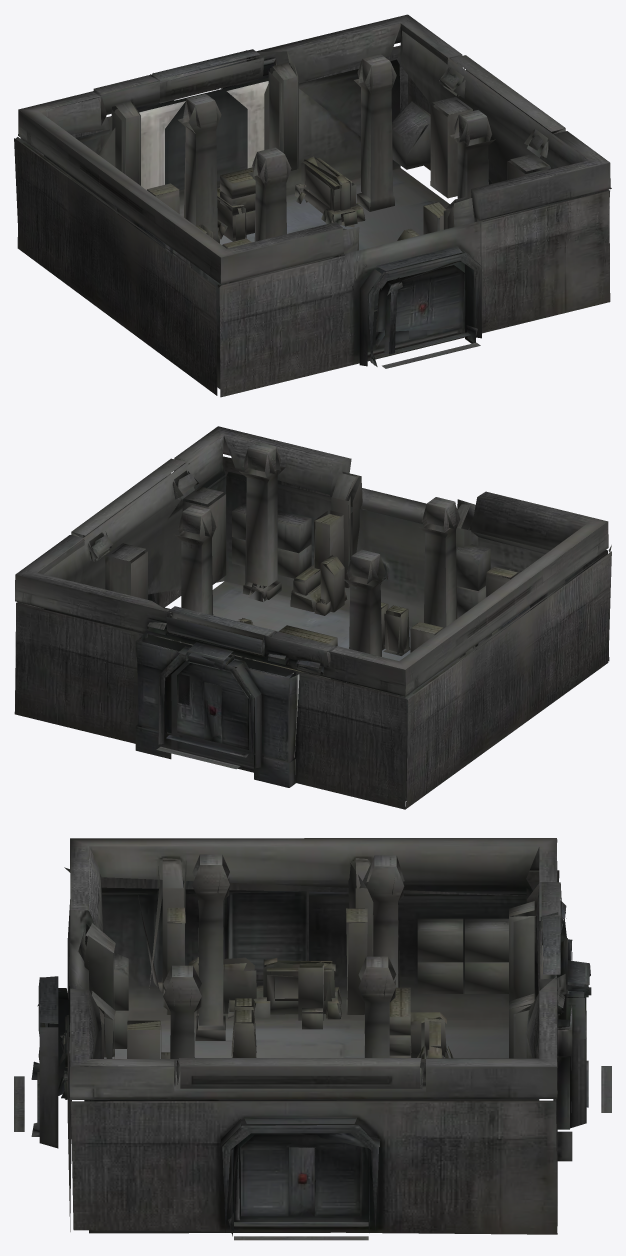
File: cqc-bunker-cqb-v1-lod1.glb
3 renders of one model, top to bottom at view 1: azimuth 30°, elevation 25°; view 2: azimuth 150°, elevation 25°; view 3: azimuth 270°, elevation 25°, orthographic. The views are drawn at different scales.
Visible parts, largest first — view 1: cqc-bunker-cqb-v1-lod1; view 2: cqc-bunker-cqb-v1-lod1; view 3: cqc-bunker-cqb-v1-lod1.
Boxes of the visible parts, x1,y1,x2,y2 form: cqc-bunker-cqb-v1-lod1: (14,14,611,397); cqc-bunker-cqb-v1-lod1: (14,426,611,809); cqc-bunker-cqb-v1-lod1: (14,838,611,1240).
Size of the model in its own units: 168 by 68.2 by 170.
1 material, 1 textured.
